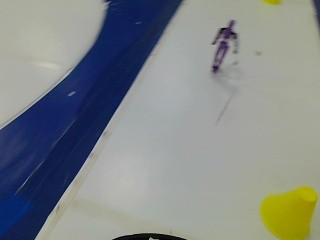cone: (258, 183, 318, 238)
pedestrian: (207, 16, 243, 76)
